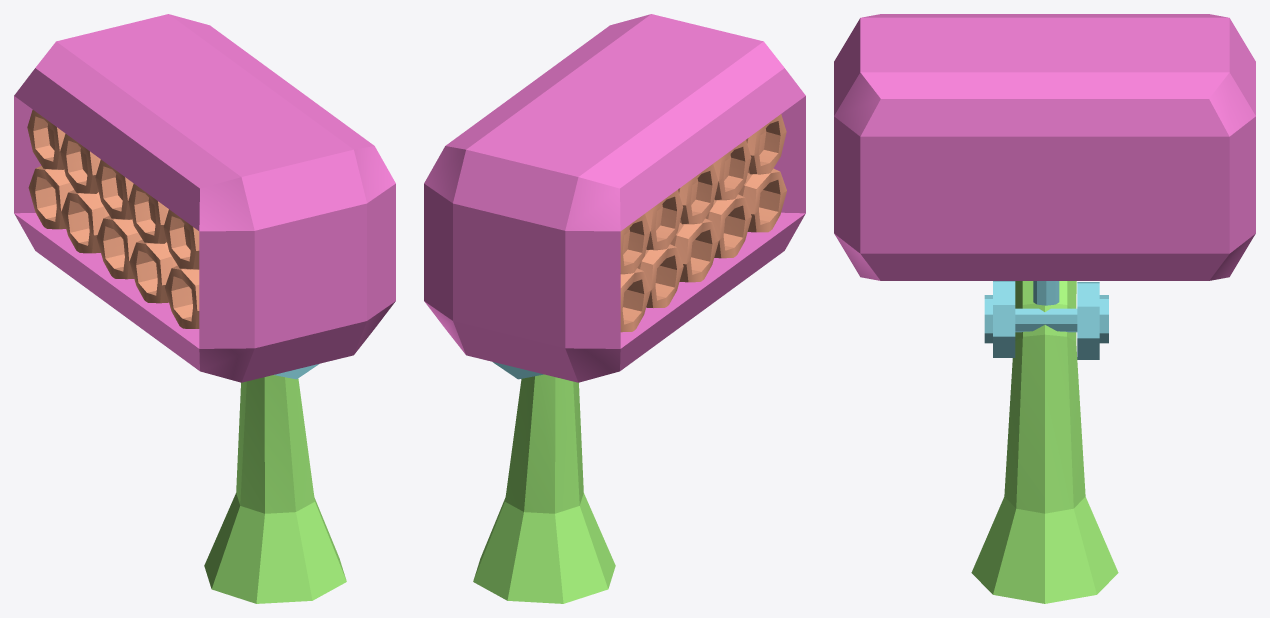
File: gate_light.fbx
3 views of the same model, side by side, from view 1: azimuth 30°, elevation 25°; view 2: azimuth 150°, elevation 25°; view 3: azimuth 270°, elevation 25° (orthographic).
Visible parts, largest first — view 1: PM3D_Cylinder3D_8; view 2: PM3D_Cylinder3D_8; view 3: PM3D_Cylinder3D_8.
Part boxes in pixels (x1,y1,x2,y2): PM3D_Cylinder3D_8: [14, 14, 395, 603]; PM3D_Cylinder3D_8: [424, 14, 805, 603]; PM3D_Cylinder3D_8: [834, 14, 1255, 603].
Bounding box in the file's own units: 0.3164 × 0.6434 × 0.4986.
